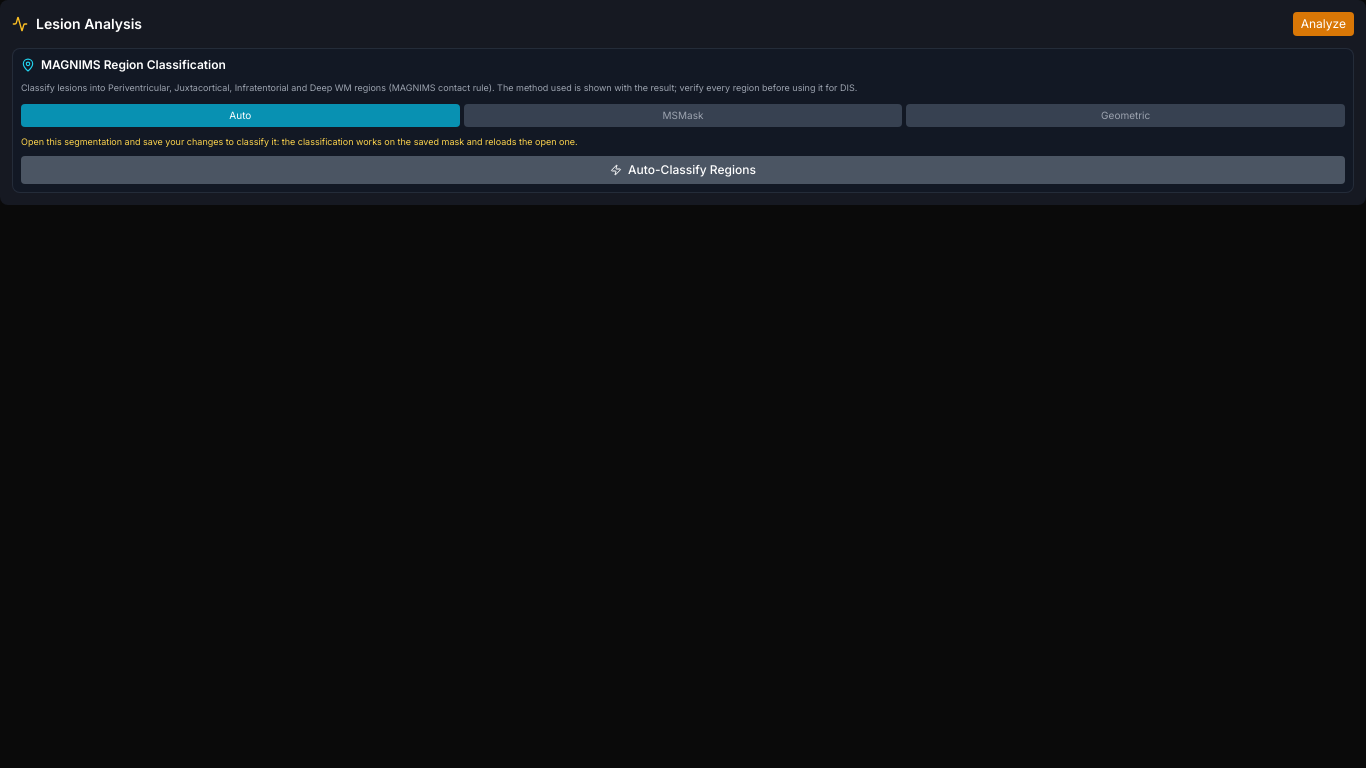
Scenario: RC-071 confirming a segmentation without AI provenance › rc071 with unsaved changes there is no confirm button, only "save first"
The image size is (1366, 768).
Click the button "Analyze". click: [1323, 24]
box: [1293,12,1354,36]
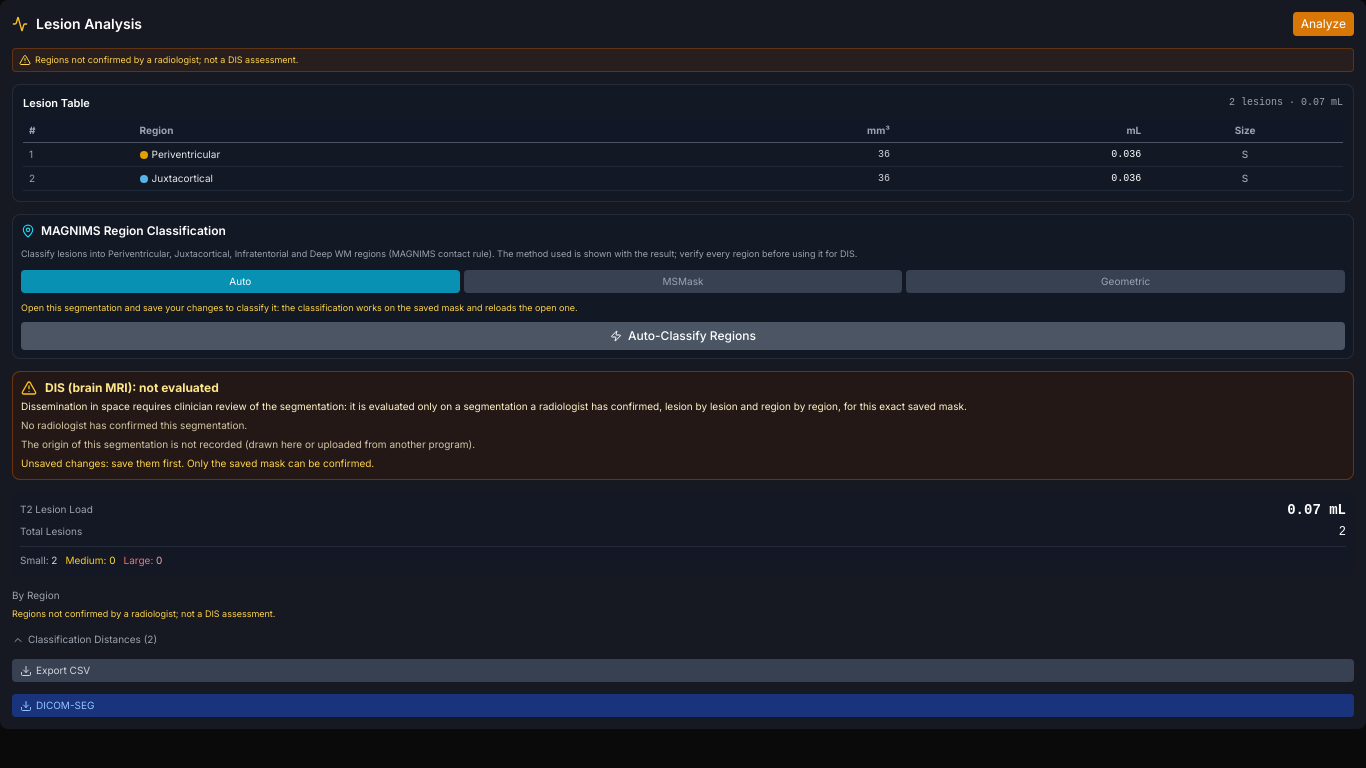
Expected: the text with test id "dis-save-first" is shown, [21,457,374,469]
